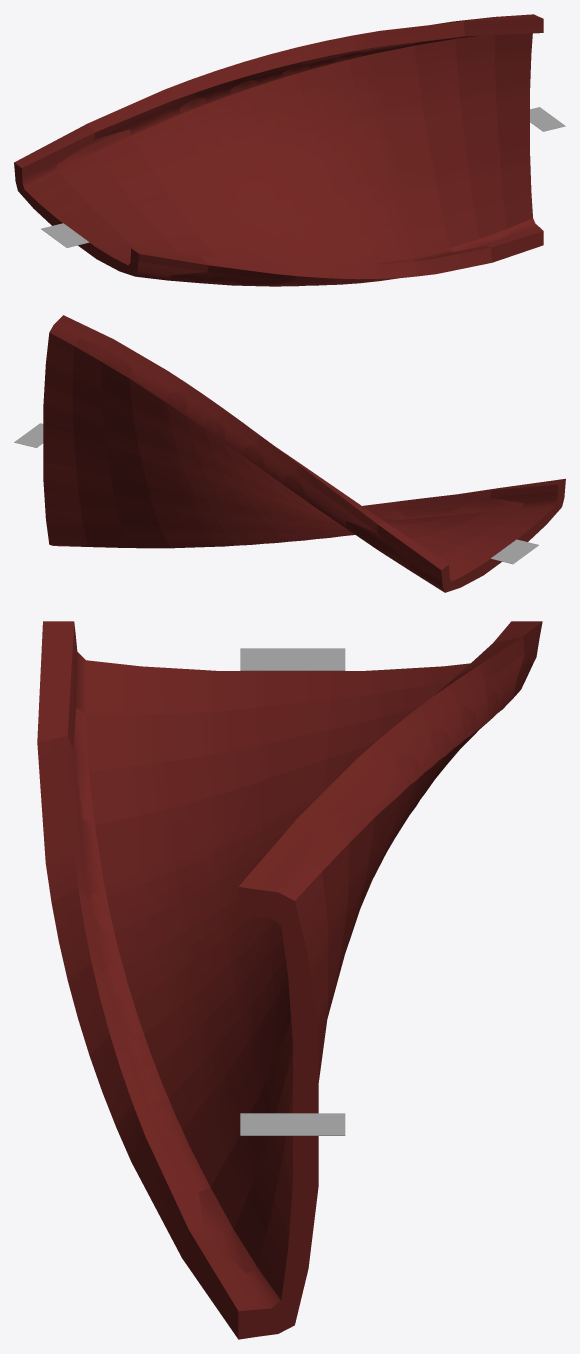
File: FlatConnectorTwistLeft90.fbx
3 renders of one model, top to bottom at view 1: azimuth 30°, elevation 25°; view 2: azimuth 150°, elevation 25°; view 3: azimuth 270°, elevation 25°, orthographic. The views are drawn at different scales.
Parts seen in each view (by area): view 1: pPipe3, pasted__pCube3, pasted__pCube2; view 2: pPipe3, pasted__pCube3, pasted__pCube2; view 3: pPipe3, pasted__pCube3, pasted__pCube2.
Boxes of the visible parts, box(x1,y1,x2,y2) form: pPipe3: box(14, 14, 543, 286); pasted__pCube3: box(41, 223, 89, 247); pasted__pCube2: box(530, 107, 565, 131); pPipe3: box(43, 315, 565, 592); pasted__pCube3: box(490, 539, 538, 564); pasted__pCube2: box(14, 423, 43, 447); pPipe3: box(37, 621, 542, 1339); pasted__pCube3: box(240, 648, 345, 670); pasted__pCube2: box(240, 1113, 345, 1135).
Size of the model in its own units: 22 by 9.65 by 9.65.
